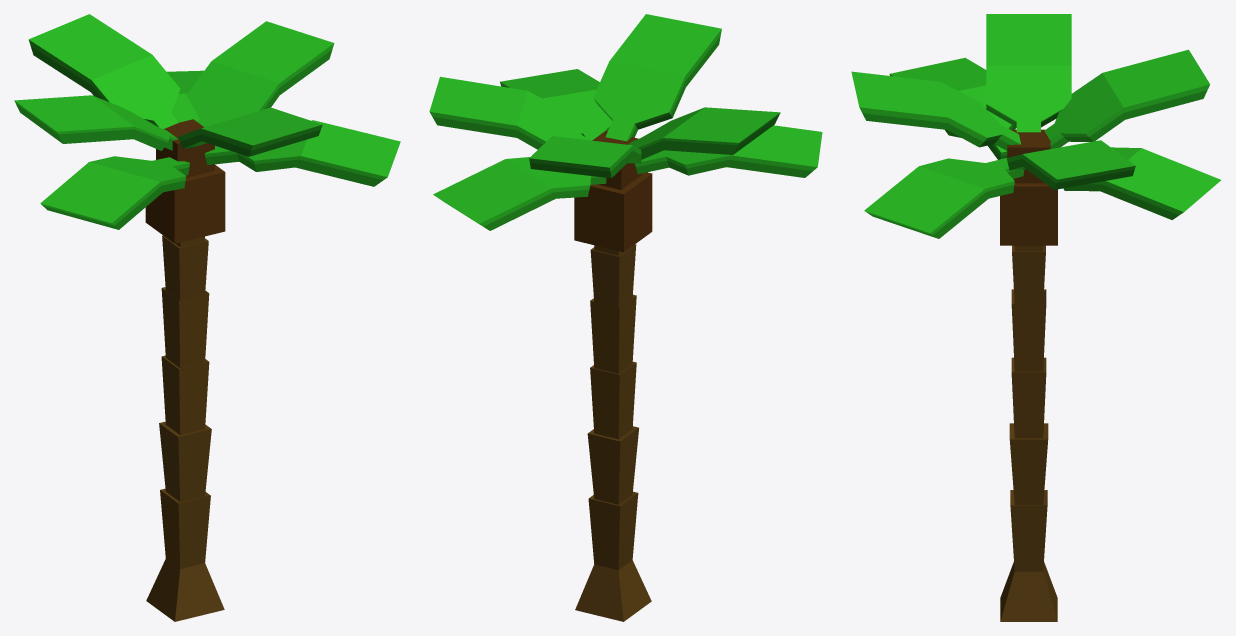
The model's file is palmtree2v2.fbx.
3 renders of one model, left to right at view 1: azimuth 30°, elevation 25°; view 2: azimuth 150°, elevation 25°; view 3: azimuth 270°, elevation 25°, orthographic. The views are drawn at different scales.
Visible parts, largest first — view 1: palmtree2v2; view 2: palmtree2v2; view 3: palmtree2v2.
Part boxes in pixels (x1,y1,x2,y2): palmtree2v2: (14,14,400,621); palmtree2v2: (429,14,822,621); palmtree2v2: (851,14,1220,621).
Size of the model in its own units: 681 by 1007 by 640.
1 material, 1 textured.
